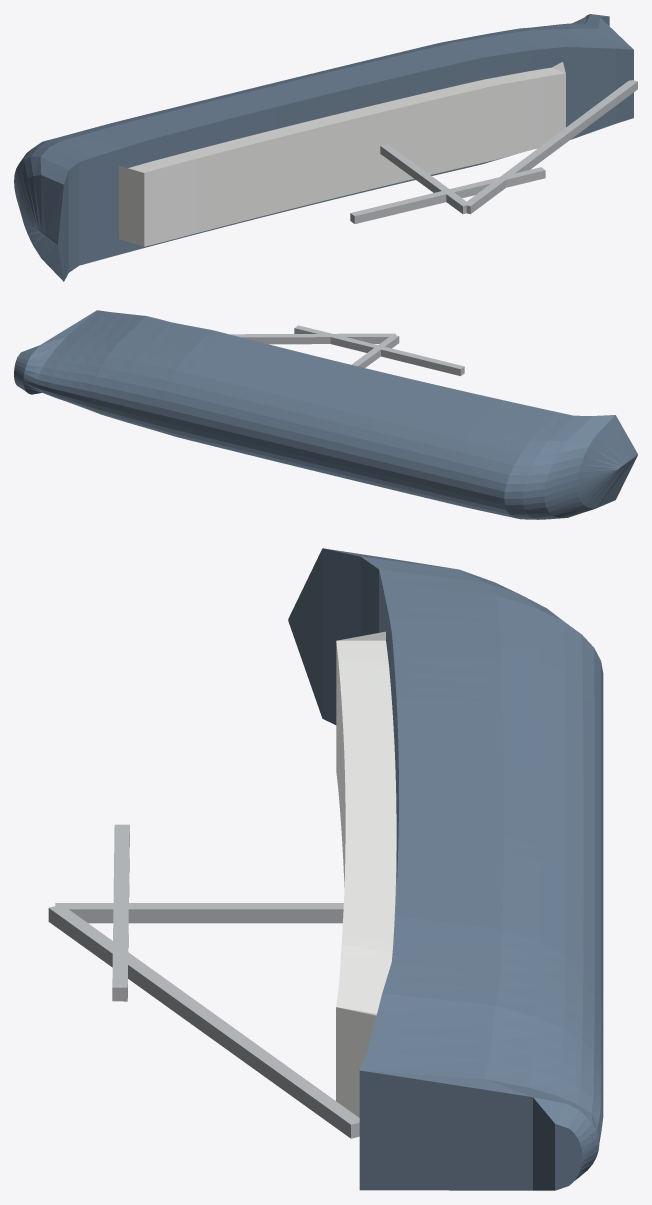
Rendered from loft-tessarakonteres-highside.glb.
3 renders of one model, top to bottom at view 1: azimuth 30°, elevation 25°; view 2: azimuth 150°, elevation 25°; view 3: azimuth 270°, elevation 25°, orthographic. The views are drawn at different scales.
Parts seen in each view (by area): view 1: loft-tessarakonteres-highside; view 2: loft-tessarakonteres-highside; view 3: loft-tessarakonteres-highside.
Part boxes in pixels (left/top/right/bottom): loft-tessarakonteres-highside: left=14, top=14, right=637, bottom=281; loft-tessarakonteres-highside: left=14, top=310, right=637, bottom=519; loft-tessarakonteres-highside: left=48, top=548, right=603, bottom=1190.
Bounding box in the file's own units: 1.98 × 0.322 × 0.864.
